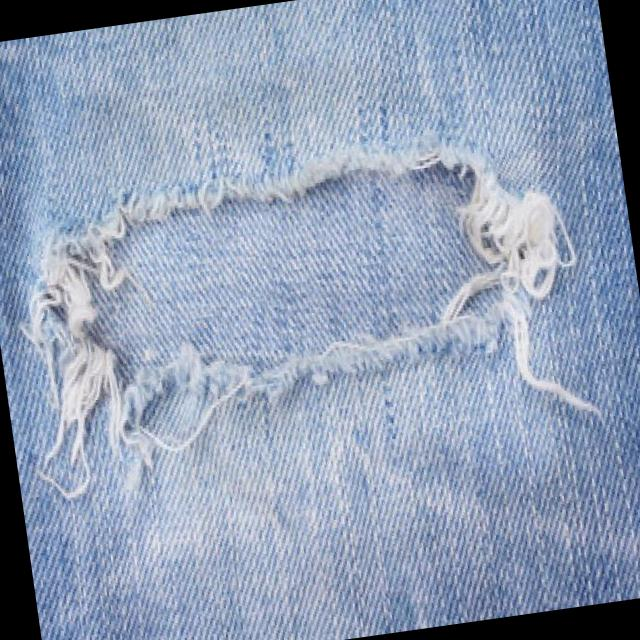hole: (12, 128, 554, 422)
